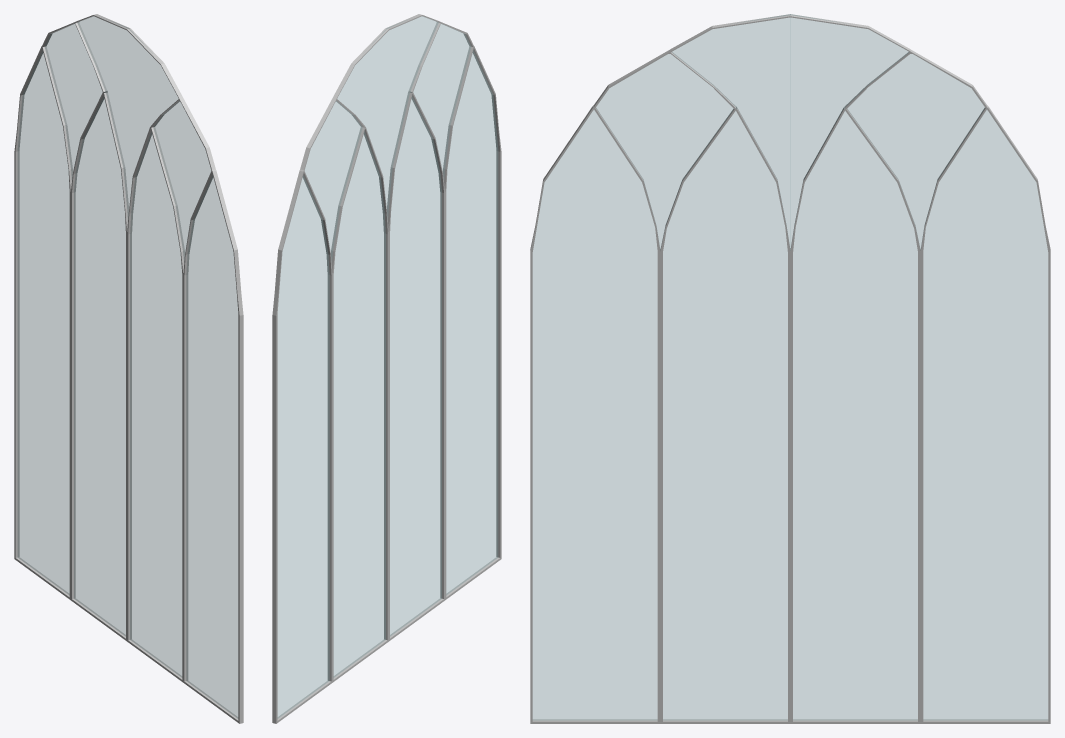
The model's file is upperwindow.fbx.
3 renders of one model, left to right at view 1: azimuth 30°, elevation 25°; view 2: azimuth 150°, elevation 25°; view 3: azimuth 270°, elevation 25°, orthographic. The views are drawn at different scales.
Visible parts, largest first — view 1: Window.025; view 2: Window.025; view 3: Window.025.
Part boxes in pixels (x1,y1,x2,y2): Window.025: [14, 14, 243, 723]; Window.025: [272, 14, 501, 723]; Window.025: [530, 14, 1050, 723].
Size of the model in its own units: 4 by 601 by 400.
